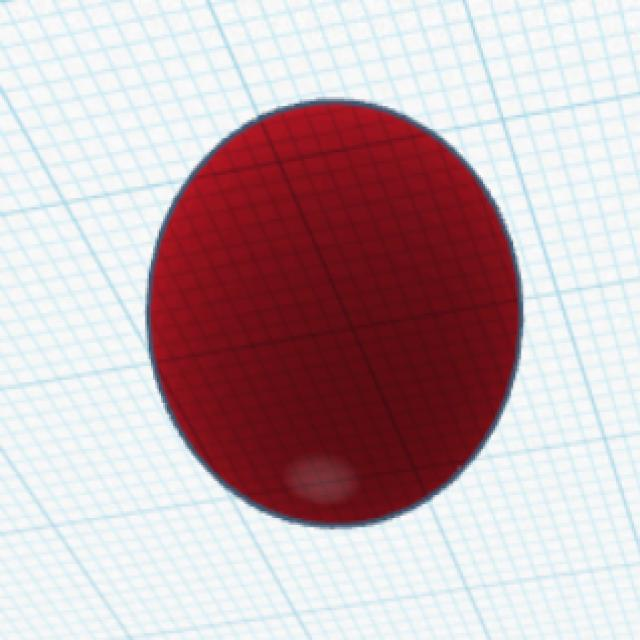sphere: (141, 95, 528, 532)
